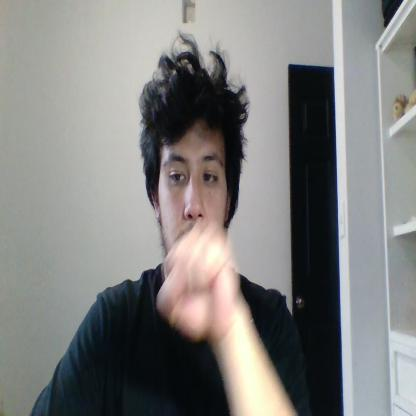S: (157, 223, 241, 338)
